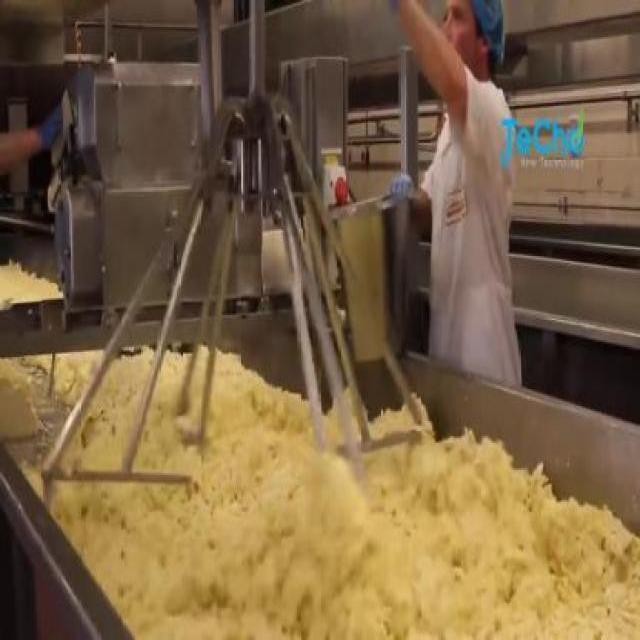gloved_hand: (383, 168, 422, 212)
